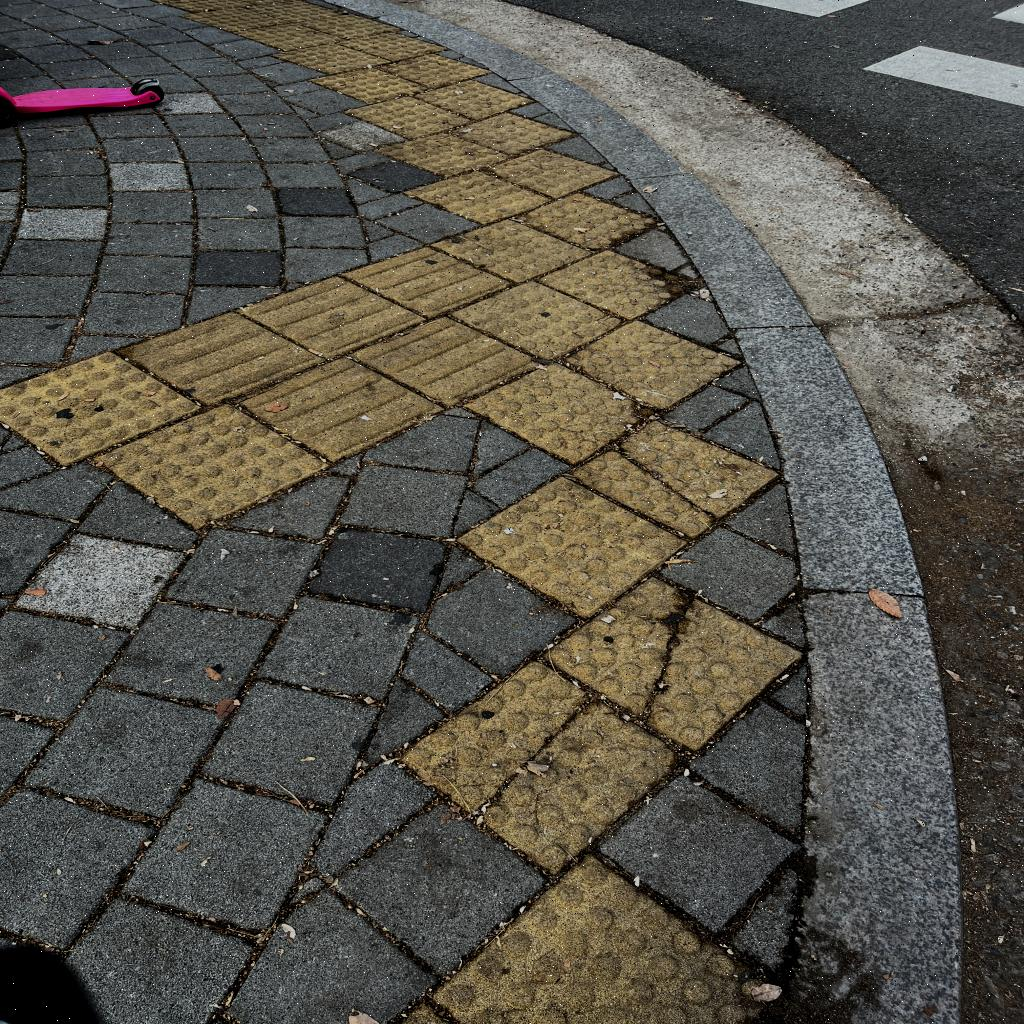Stop block broken: (398, 625, 682, 895), (537, 550, 800, 774), (569, 397, 778, 557)
Stop block normal: (456, 448, 686, 641), (97, 370, 329, 554), (464, 335, 655, 485), (559, 300, 740, 429)
Straight block normal: (240, 324, 442, 485), (120, 283, 323, 426), (349, 287, 541, 432), (237, 244, 422, 386), (342, 222, 511, 340)
